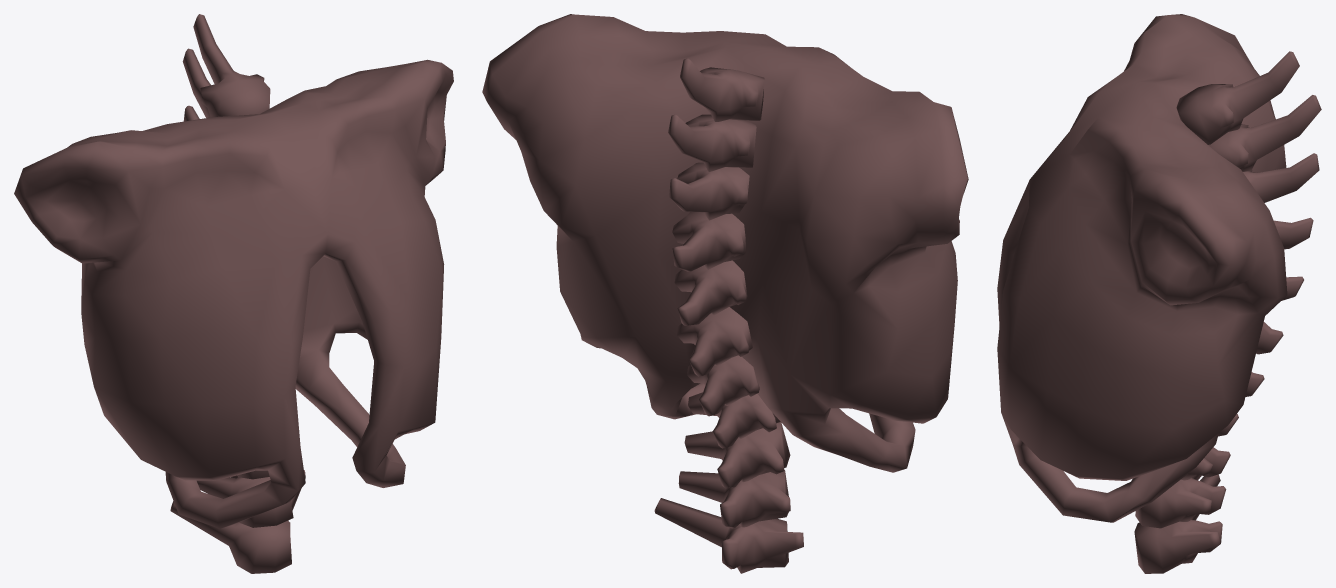
File: SM_HumanSkeletonRibcage.FBX
The picture shows the model from 3 angles, left to right: view 1: azimuth 30°, elevation 25°; view 2: azimuth 150°, elevation 25°; view 3: azimuth 270°, elevation 25°; orthographic projection. The views are drawn at different scales.
Visible parts, largest first — view 1: SM_HumanSkeletonRibcage; view 2: SM_HumanSkeletonRibcage; view 3: SM_HumanSkeletonRibcage.
Boxes of the visible parts, box(x1,y1,x2,y2) form: SM_HumanSkeletonRibcage: box(14, 14, 453, 573); SM_HumanSkeletonRibcage: box(482, 14, 968, 573); SM_HumanSkeletonRibcage: box(997, 14, 1321, 573).
Bounding box in the file's own units: 62.31 × 69.45 × 39.74.
